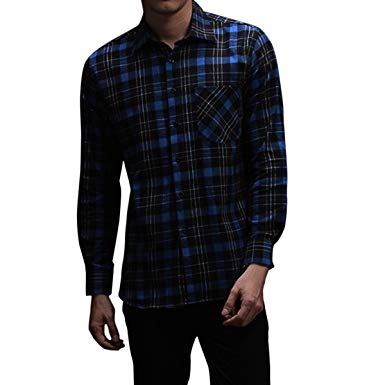Shirt: (71, 21, 315, 281)
